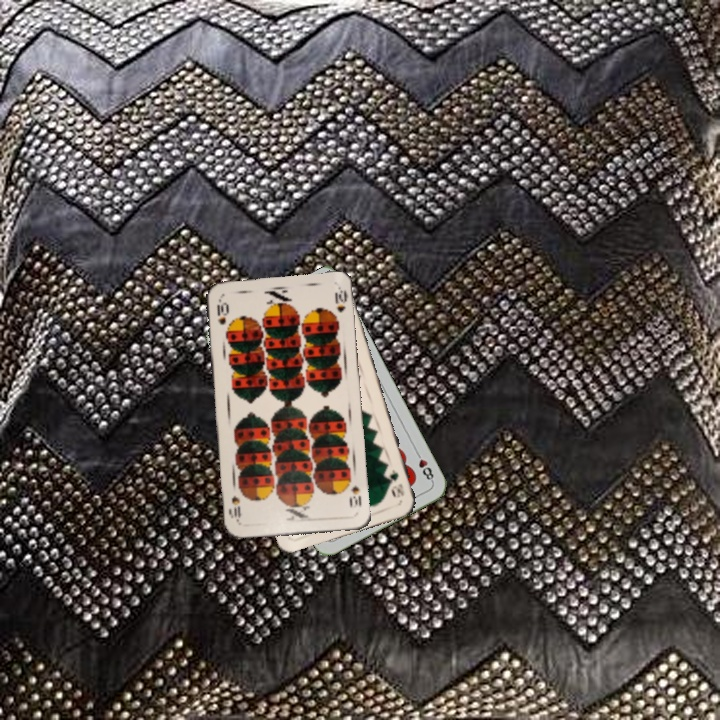G10: (385, 465, 407, 501)
H8: (412, 447, 436, 485)
S10: (345, 481, 364, 510), (213, 295, 229, 327)
